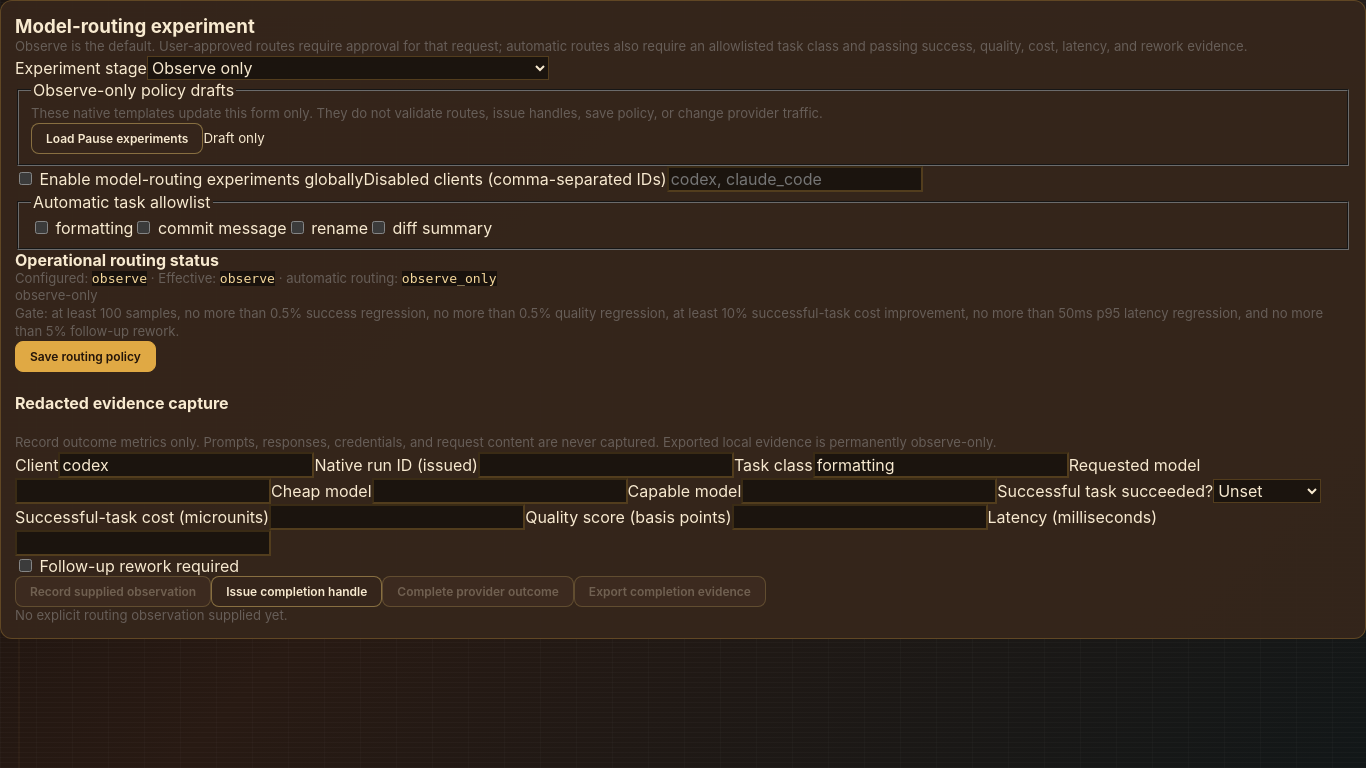
optimization supporting panels › surfaces routing policy persistence errors
Step 1. Click the button "Save routing policy" → (85, 356), box 15,340 -> 156,372
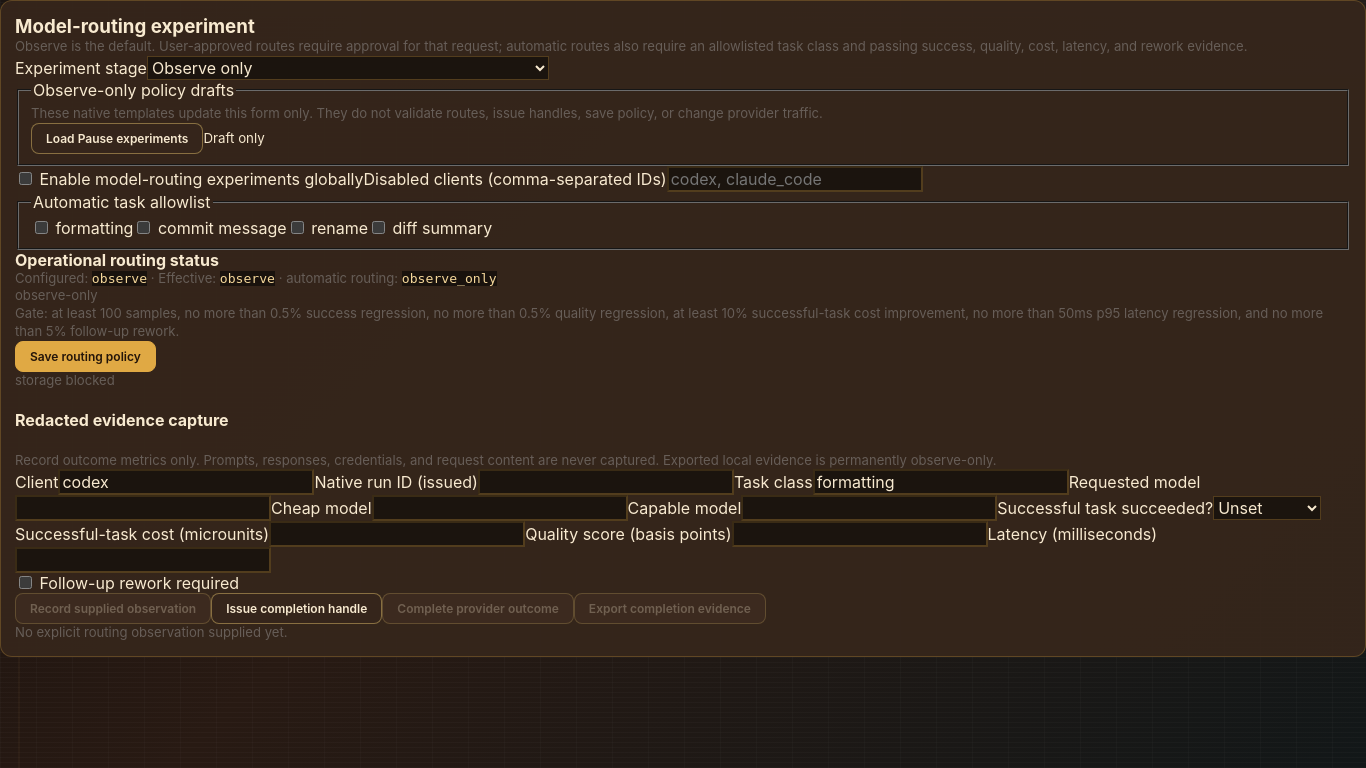
Expected: the text "storage blocked" is shown, 15,372 -> 115,388
